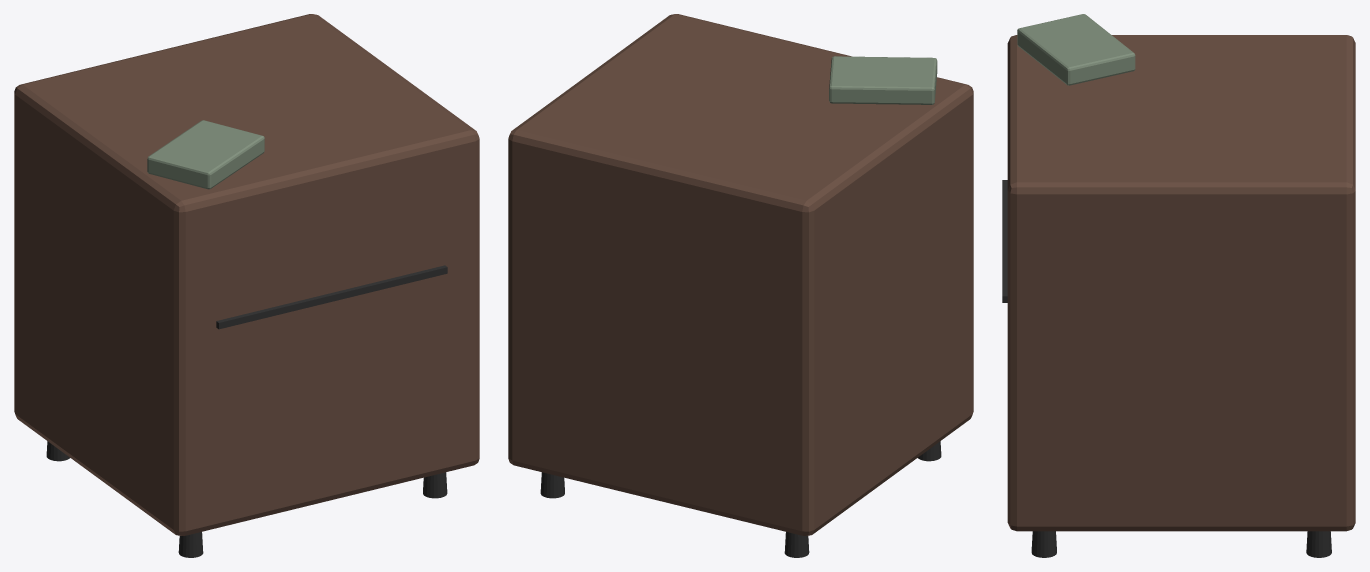
Rendered from nightstand.glb.
3 renders of one model, left to right at view 1: azimuth 30°, elevation 25°; view 2: azimuth 150°, elevation 25°; view 3: azimuth 270°, elevation 25°, orthographic. The views are drawn at different scales.
Parts seen in each view (by area): view 1: body.001, book, drawerGap; view 2: body.001, book; view 3: body.001, book, drawerGap, leg1-1.008, leg11.008.
Boxes of the visible parts, <box> form: body.001: <box>14,14,479,535</box>; book: <box>147,120,264,189</box>; drawerGap: <box>216,265,447,329</box>; body.001: <box>508,14,973,535</box>; book: <box>829,56,937,104</box>; body.001: <box>1007,35,1355,531</box>; book: <box>1017,14,1135,85</box>; drawerGap: <box>1002,180,1007,302</box>; leg1-1.008: <box>1031,531,1056,557</box>; leg11.008: <box>1306,531,1331,557</box>.
Bounding box in the file's own units: 0.4 × 0.486 × 0.386.
